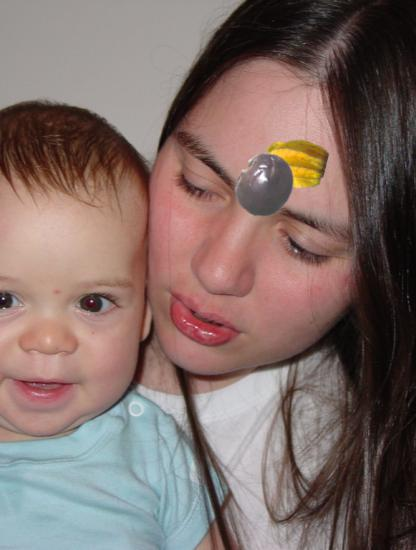Passion: (232, 151, 298, 217)
Physalis: (261, 130, 327, 196)
